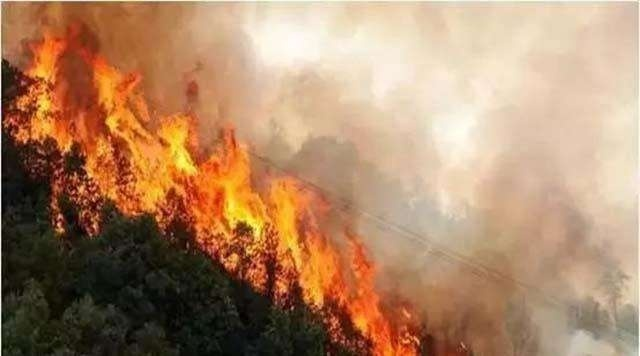fire: (28, 28, 436, 349)
